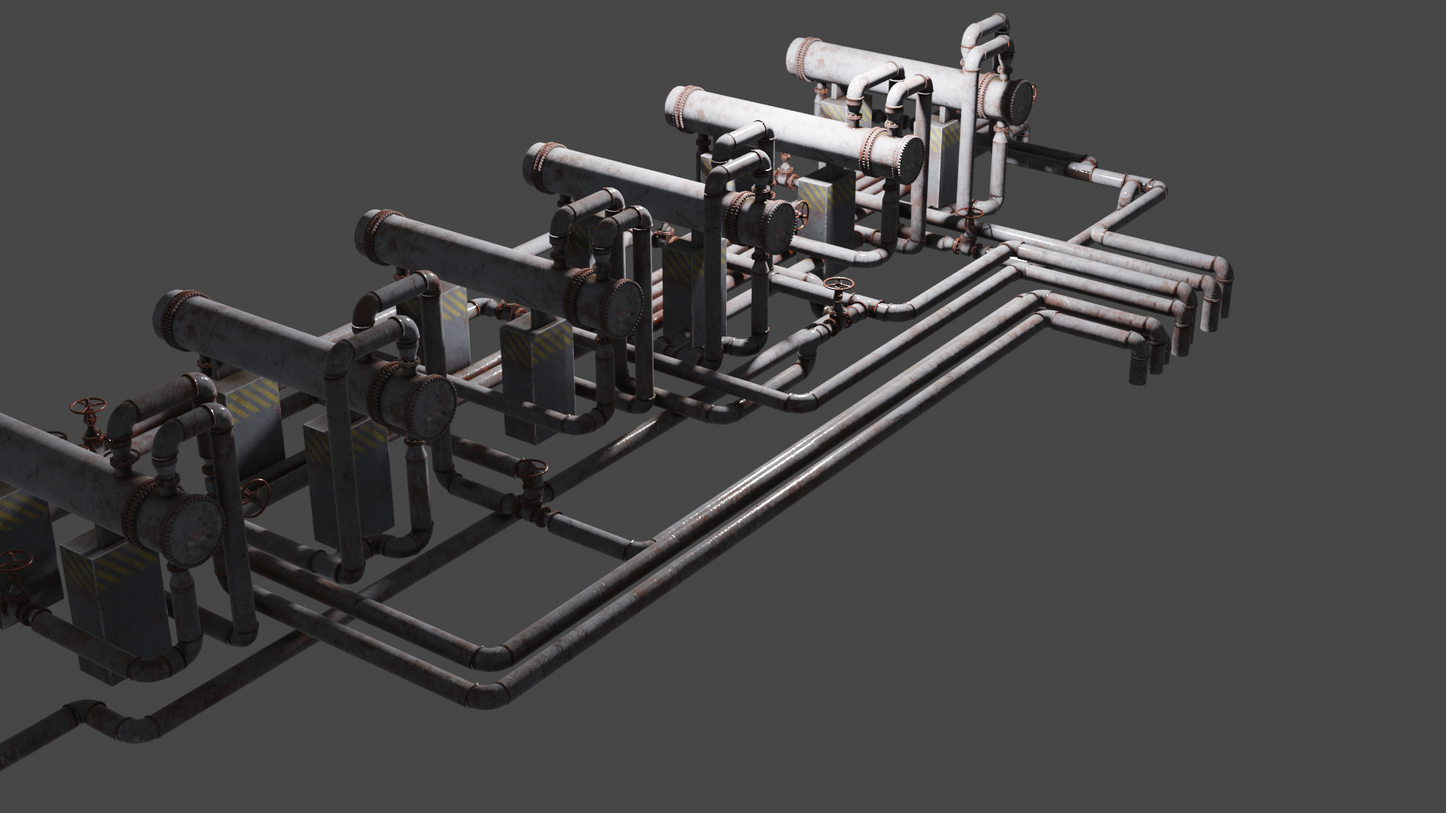HE_1: (1, 413, 218, 568)
HE_2: (146, 283, 458, 440)
HE_3: (348, 208, 644, 336)
HE_4: (525, 142, 800, 252)
HE_5: (659, 83, 925, 185)
HE_6: (782, 33, 1031, 127)
